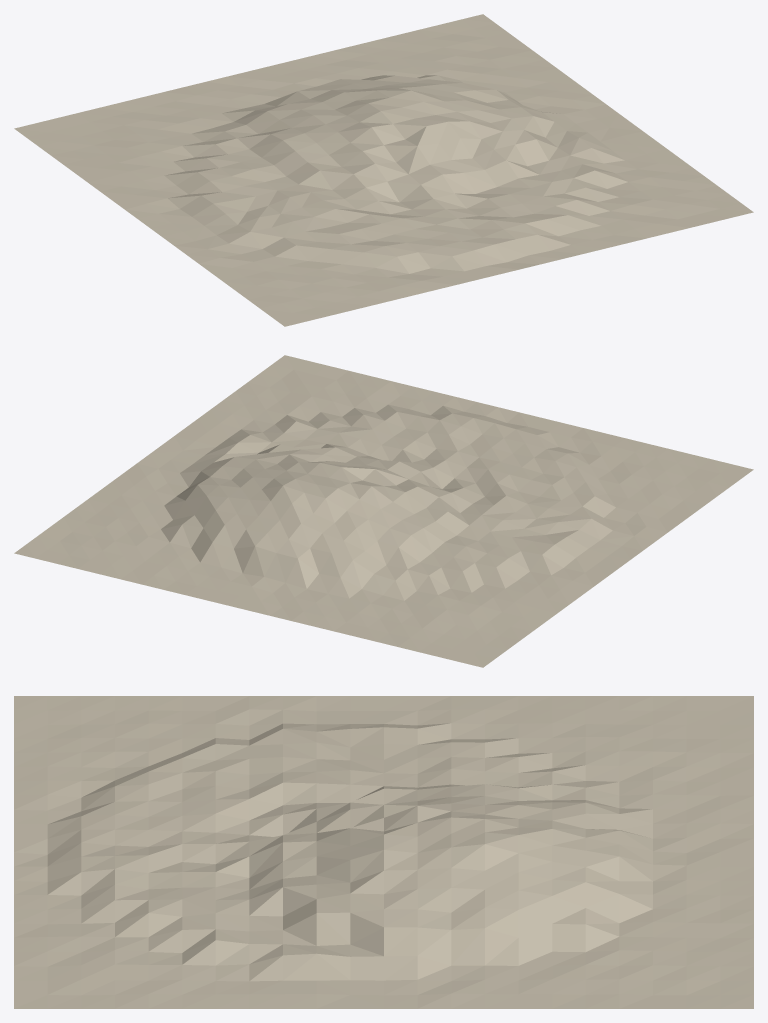
File: Ground_s_09.fbx
The picture shows the model from 3 angles, top to bottom: view 1: azimuth 30°, elevation 25°; view 2: azimuth 150°, elevation 25°; view 3: azimuth 270°, elevation 25°; orthographic projection. The views are drawn at different scales.
Visible parts, largest first — view 1: Ground_s_09; view 2: Ground_s_09; view 3: Ground_s_09.
Boxes of the visible parts, <box> form: Ground_s_09: <box>14,14,753,326</box>; Ground_s_09: <box>14,355,753,667</box>; Ground_s_09: <box>14,696,753,1008</box>.
Bounding box in the file's own units: 5000 × 397 × 5000.
